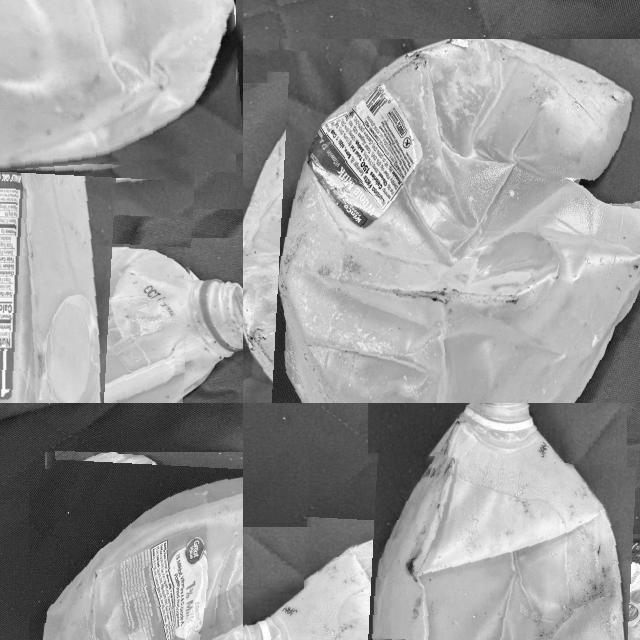milk-jug: (250, 55, 640, 403), (295, 455, 640, 640), (0, 155, 189, 403), (0, 0, 239, 181), (31, 455, 243, 640)
